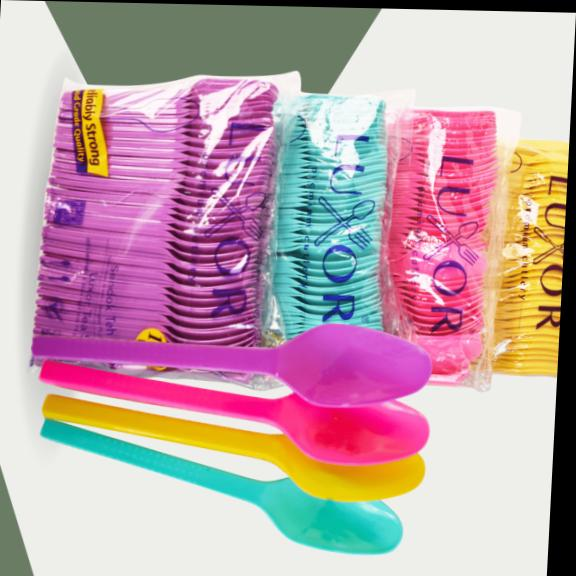Plastik: (41, 420, 401, 554), (39, 361, 428, 465), (42, 396, 423, 501), (32, 324, 430, 406)
